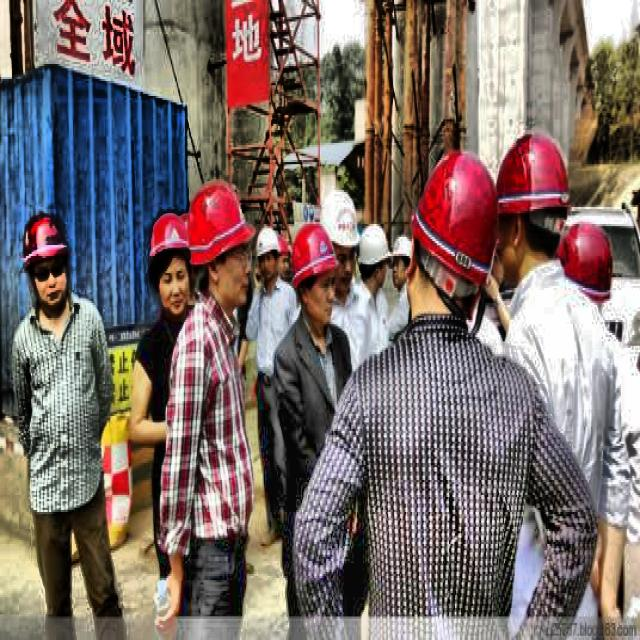helmet: (412, 150, 499, 324), (492, 128, 566, 284), (185, 177, 253, 314), (551, 218, 616, 320), (20, 211, 73, 316), (146, 211, 196, 322), (288, 224, 340, 322), (326, 192, 357, 271), (357, 224, 389, 294), (252, 226, 284, 288), (392, 230, 416, 294)
